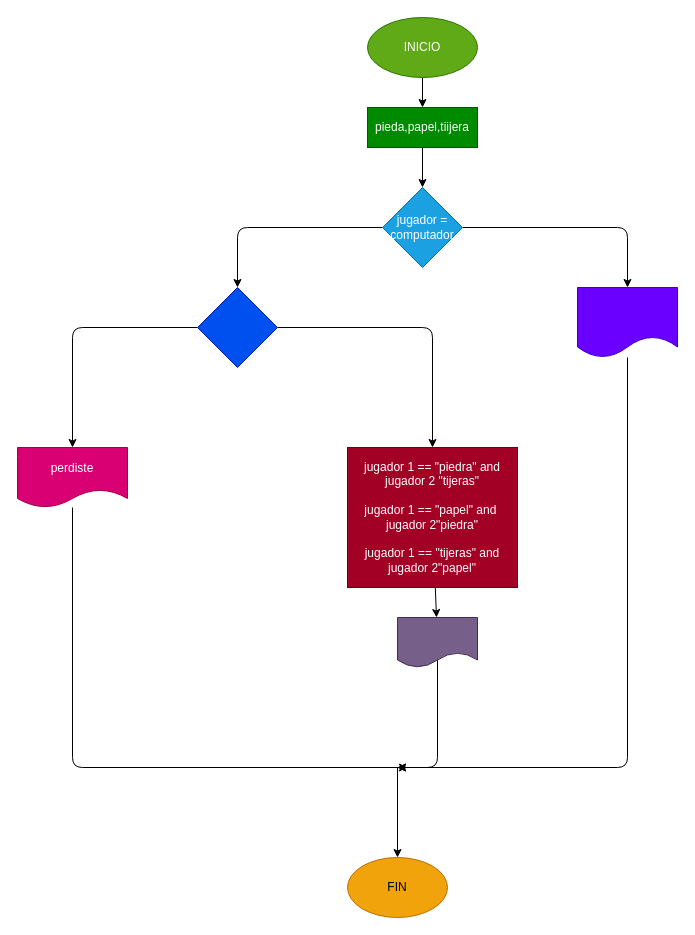
Image size: 695x935. Some labels were removed from this diagram. The shapes that lost their labels are listed below. From the top down, each one's centre as x and y in pixels, then its label:
At pixel 237 327: "jugador diferente".
At pixel 627 322: "empate".
At pixel 437 642: "ganaste".
